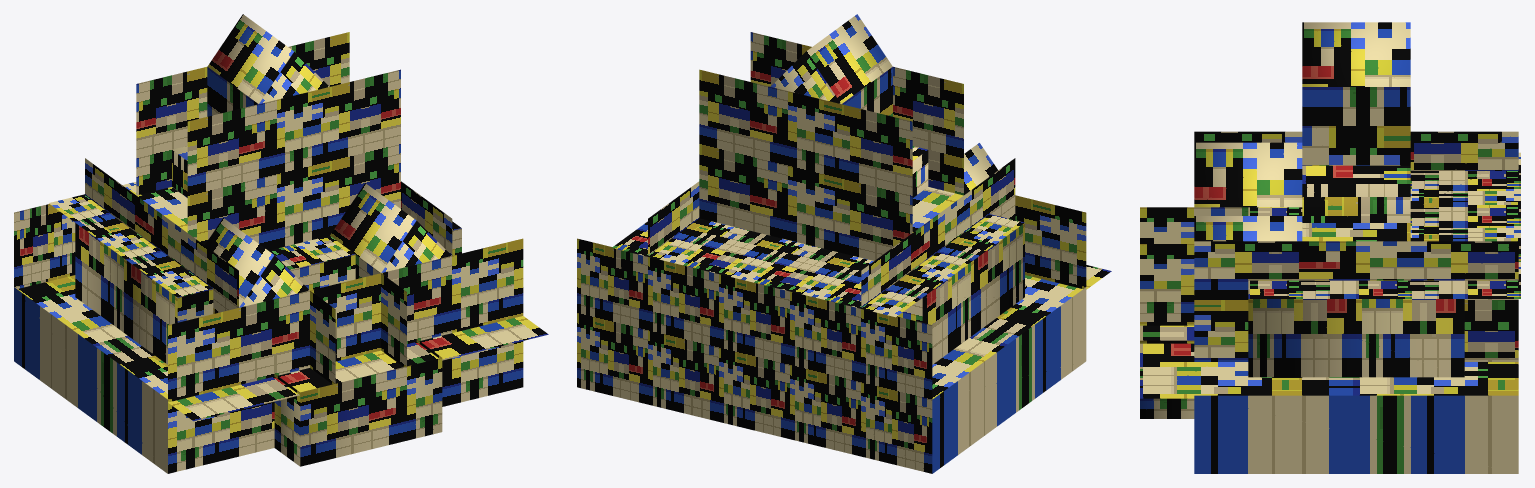
Rendered from 3376imig17_03.gltf.
3 renders of one model, left to right at view 1: azimuth 30°, elevation 25°; view 2: azimuth 150°, elevation 25°; view 3: azimuth 270°, elevation 25°, orthographic. The views are drawn at different scales.
Parts seen in each view (by area): view 1: 3376imig17_03; view 2: 3376imig17_03; view 3: 3376imig17_03.
Part boxes in pixels (x1,y1,x2,y2): 3376imig17_03: (14, 14, 548, 473); 3376imig17_03: (577, 14, 1111, 473); 3376imig17_03: (1140, 22, 1520, 473).
Bounding box in the file's own units: 0.8467 × 0.7773 × 0.7451.
1 material, 1 textured.
